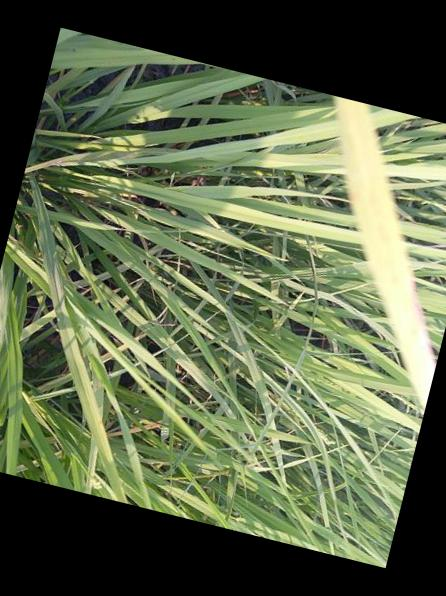Leaf Blight: (330, 95, 436, 417)
